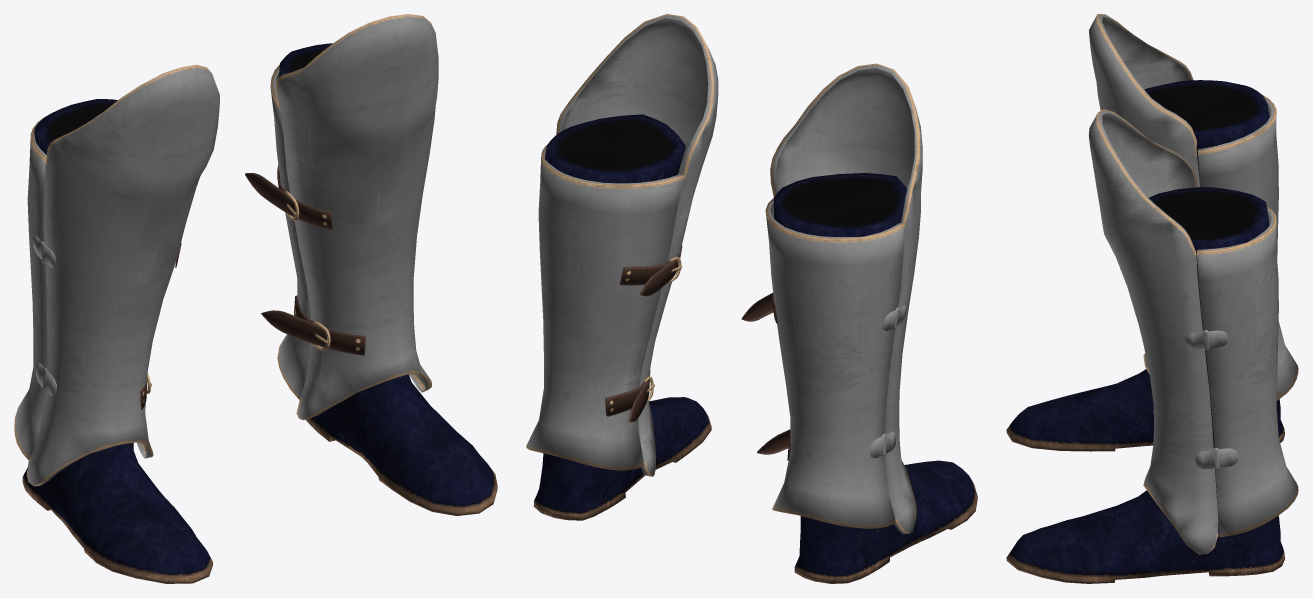
The model's file is swan_knight_greaves_a_full.fbx.
3 renders of one model, left to right at view 1: azimuth 30°, elevation 25°; view 2: azimuth 150°, elevation 25°; view 3: azimuth 270°, elevation 25°, orthographic. The views are drawn at different scales.
Visible parts, largest first — view 1: swan_knight_greaves_a_full; view 2: swan_knight_greaves_a_full; view 3: swan_knight_greaves_a_full.
Part boxes in pixels (x1,y1,x2,y2): swan_knight_greaves_a_full: [14, 14, 497, 583]; swan_knight_greaves_a_full: [526, 14, 977, 583]; swan_knight_greaves_a_full: [1006, 14, 1298, 583].
Bounding box in the file's own units: 0.4728 × 0.3303 × 0.5374.
Materials: 1 (1 with a texture image).
